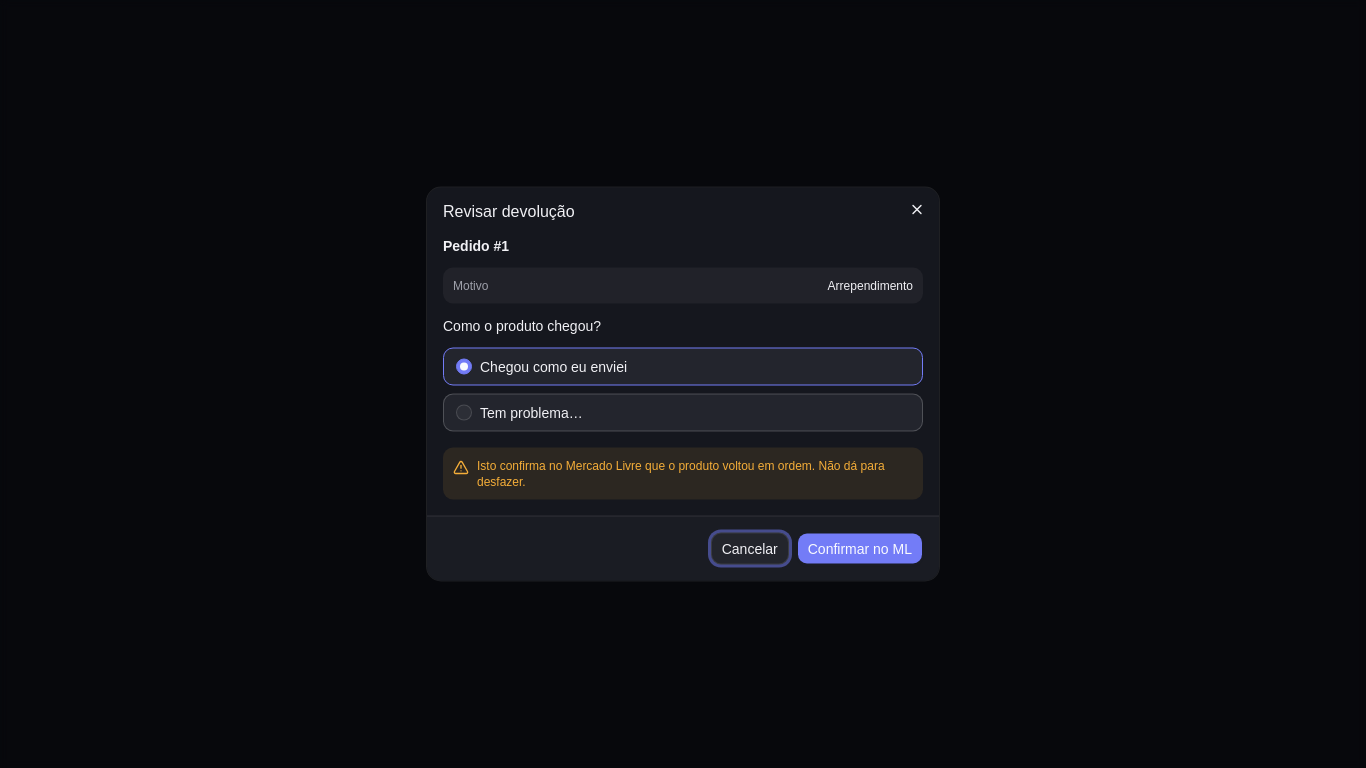
Test: DialogoRevisarDevolucao › repetir após erro de rede reusa o mesmo operacao_id
The image size is (1366, 768).
Click the button "Confirmar no ML": (860,548) [797, 532, 923, 564]
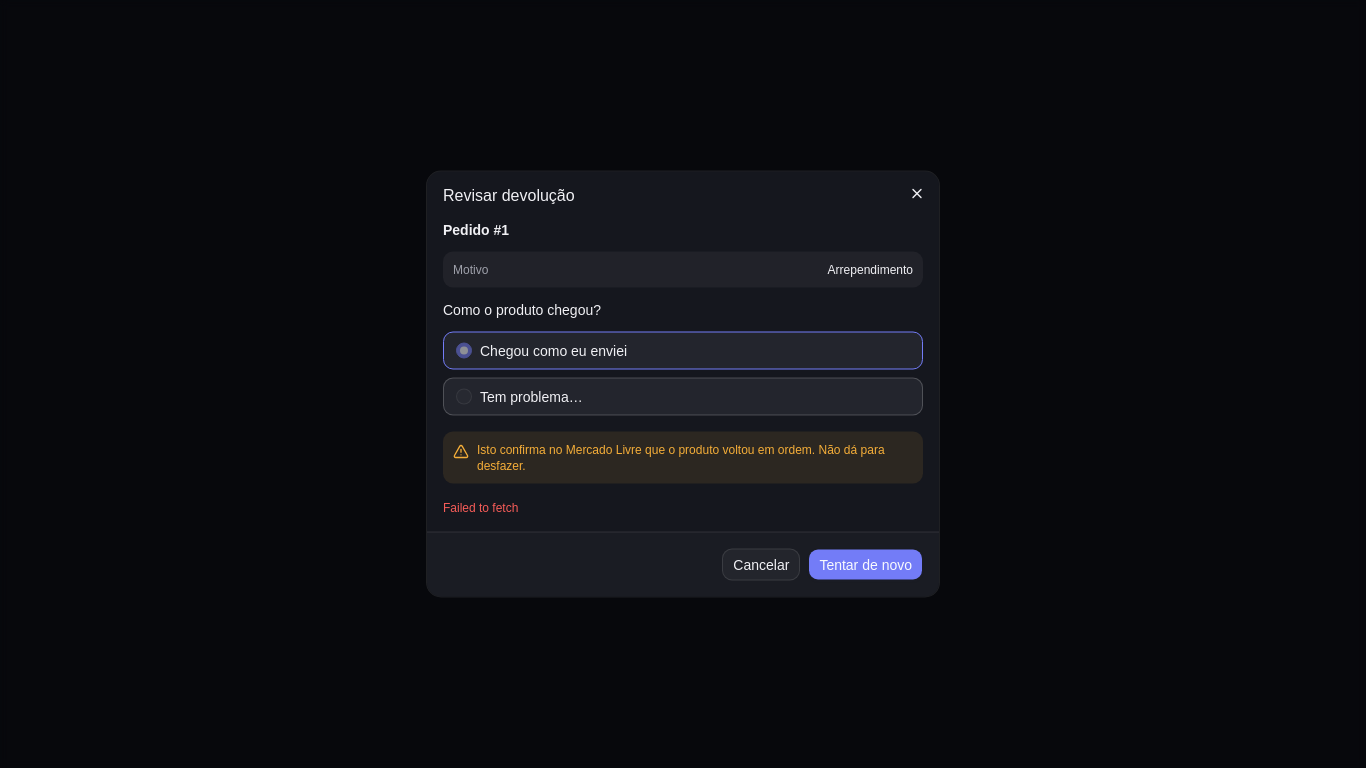
Click the button "Tentar de novo": (866,564) [808, 548, 923, 580]
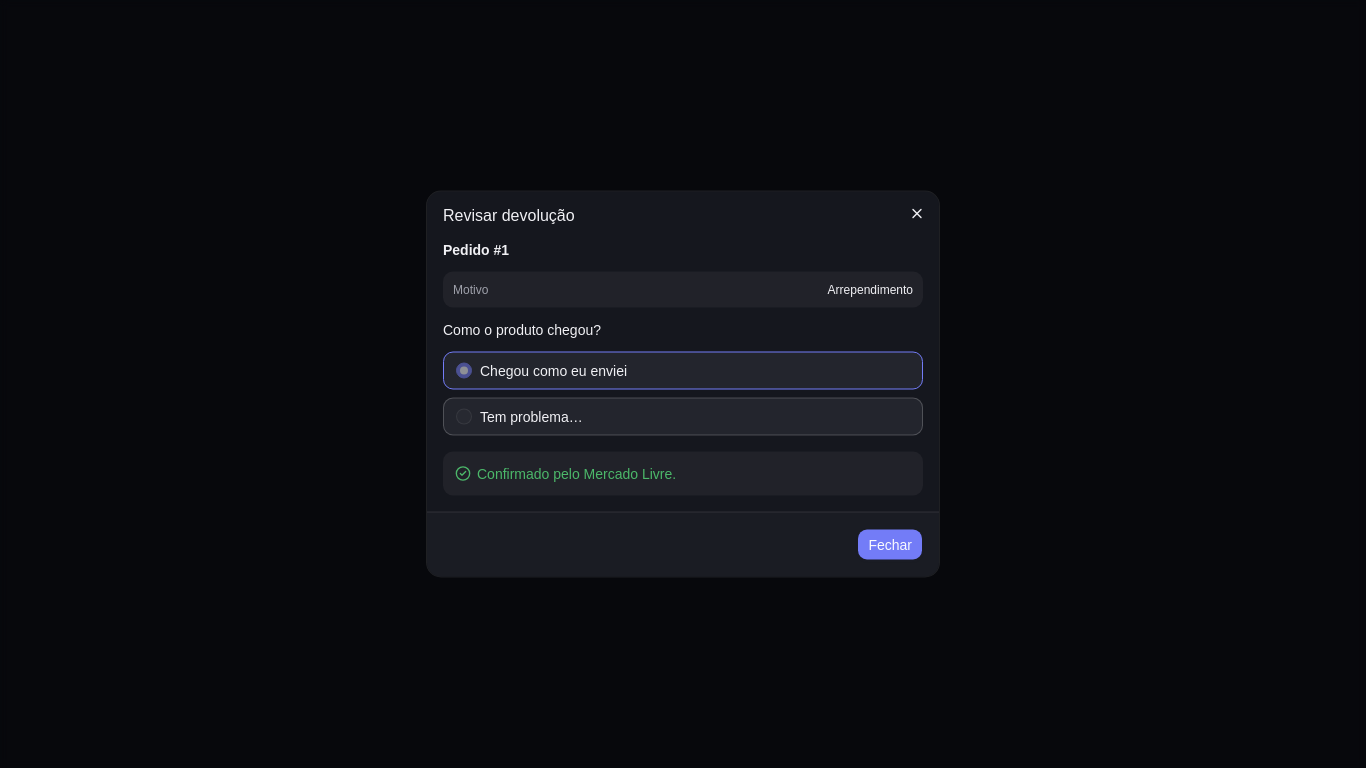
Now the text "Confirmado pelo Mercado Livre." is shown, box [455, 466, 676, 482]
